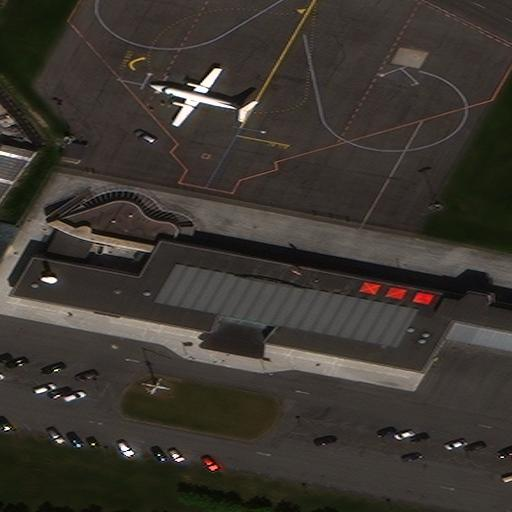Medium Civil Transport: (148, 66, 252, 125)
